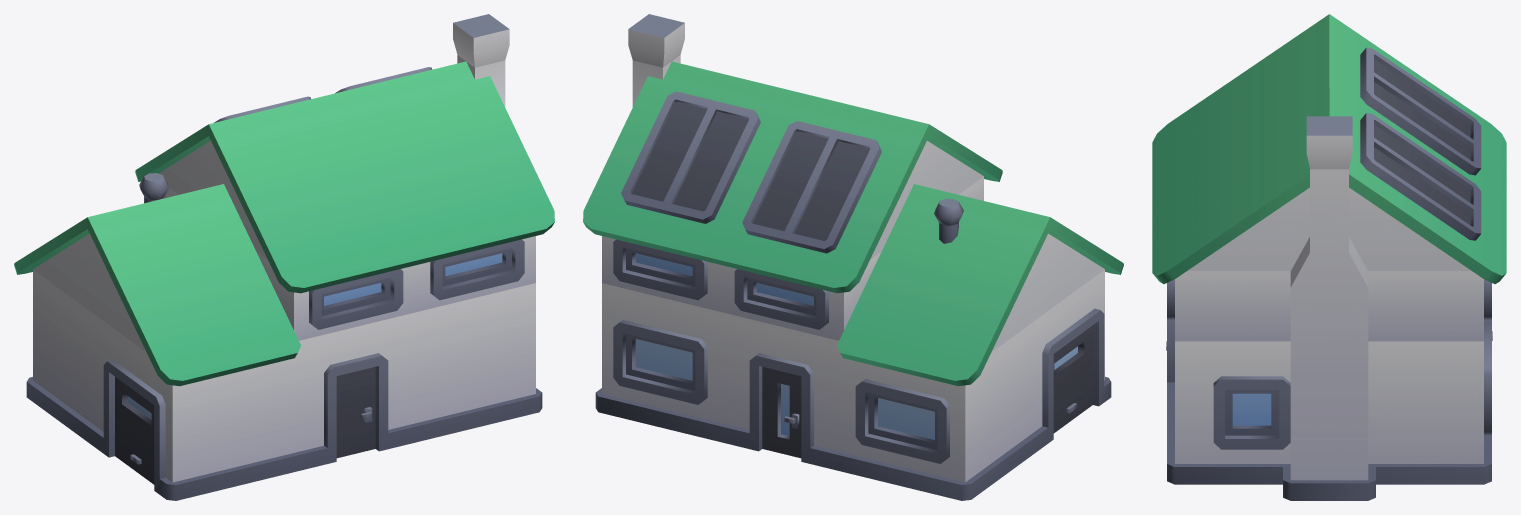
Rendered from building-type-j.draco.glb.
3 renders of one model, left to right at view 1: azimuth 30°, elevation 25°; view 2: azimuth 150°, elevation 25°; view 3: azimuth 270°, elevation 25°, orthographic. The views are drawn at different scales.
Parts seen in each view (by area): view 1: building-type-j; view 2: building-type-j; view 3: building-type-j.
Part boxes in pixels (left/top/right/bottom): building-type-j: left=14, top=14, right=554, bottom=500; building-type-j: left=583, top=14, right=1123, bottom=500; building-type-j: left=1152, top=14, right=1506, bottom=500.
Bounding box in the file's own units: 1.37 × 1.04 × 0.916.
1 material, 1 textured.
